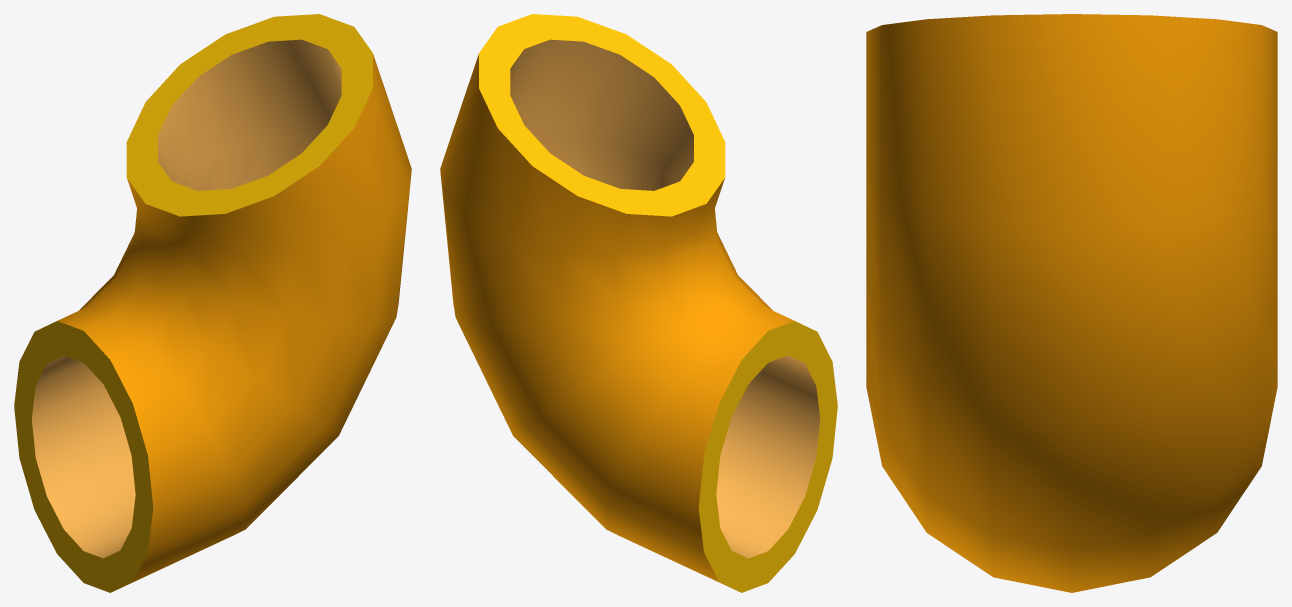
Rendered from D_FBX_05_Pipe_02.fbx.
The picture shows the model from 3 angles, left to right: view 1: azimuth 30°, elevation 25°; view 2: azimuth 150°, elevation 25°; view 3: azimuth 270°, elevation 25°; orthographic projection. The views are drawn at different scales.
Visible parts, largest first — view 1: D_FBX_05_Pipe_02; view 2: D_FBX_05_Pipe_02; view 3: D_FBX_05_Pipe_02.
Part boxes in pixels (x1,y1,x2,y2): D_FBX_05_Pipe_02: (14,14,411,592); D_FBX_05_Pipe_02: (440,14,837,592); D_FBX_05_Pipe_02: (866,14,1277,592).
Bounding box in the file's own units: 193 × 292 × 150.
